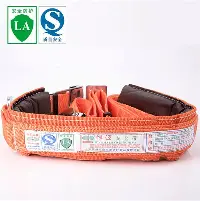safety belt2: (12, 82, 189, 160)
